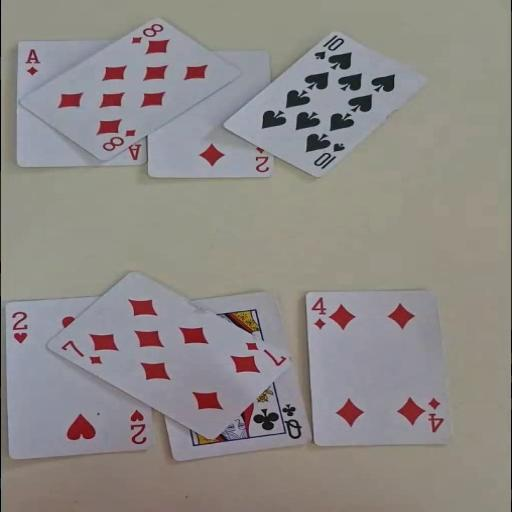10: (310, 140, 347, 170), (311, 33, 346, 61)
2: (126, 407, 148, 445), (8, 310, 28, 344), (252, 148, 272, 173)
4: (425, 395, 445, 434), (309, 295, 328, 331)
7: (57, 338, 104, 365), (243, 340, 288, 367)
8: (99, 127, 138, 152), (127, 21, 165, 45)
A: (22, 46, 41, 76), (126, 142, 141, 161)
Q: (279, 402, 304, 440)
